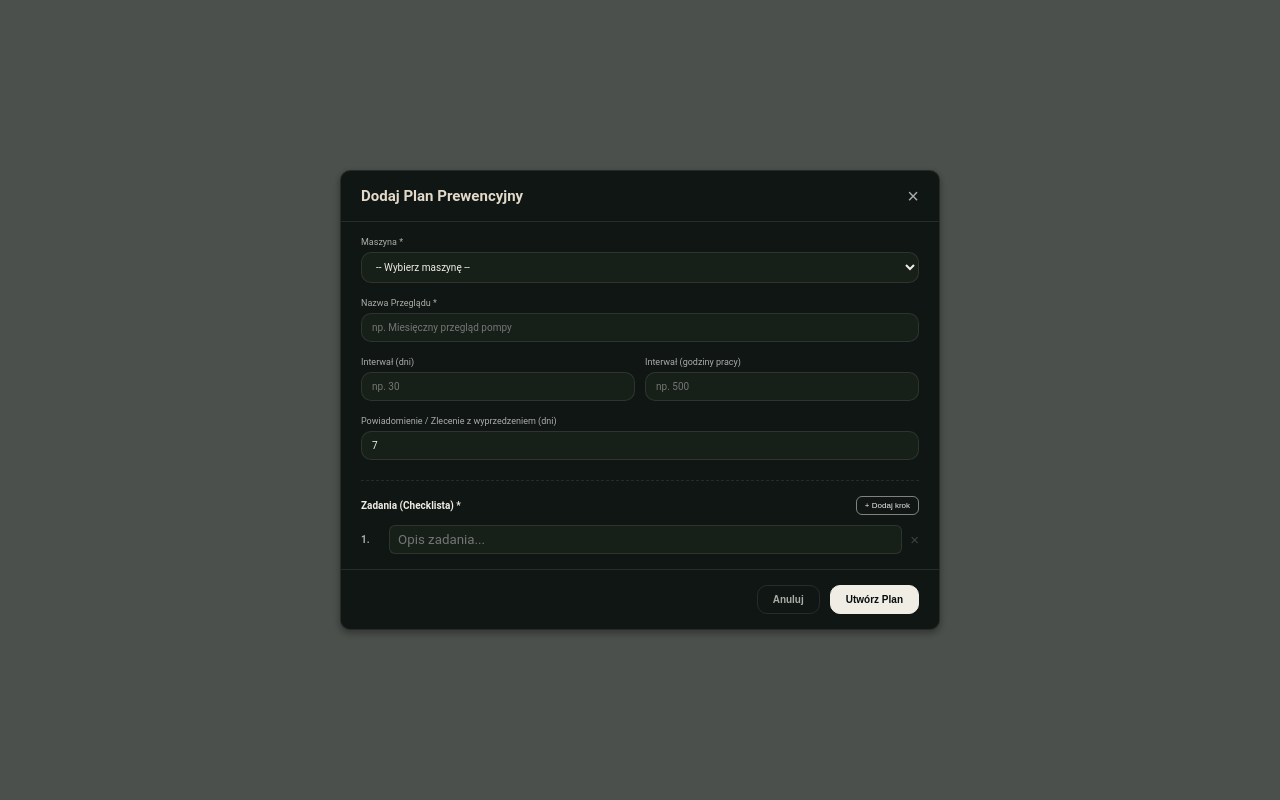
PreventiveModal › zarządzanie checklistą › kliknięcie "+ Dodaj krok" dodaje nowy krok
This screenshot has width=1280, height=800.
Click the button "+ Dodaj krok".
click(887, 506)  # box [856,496,919,515]
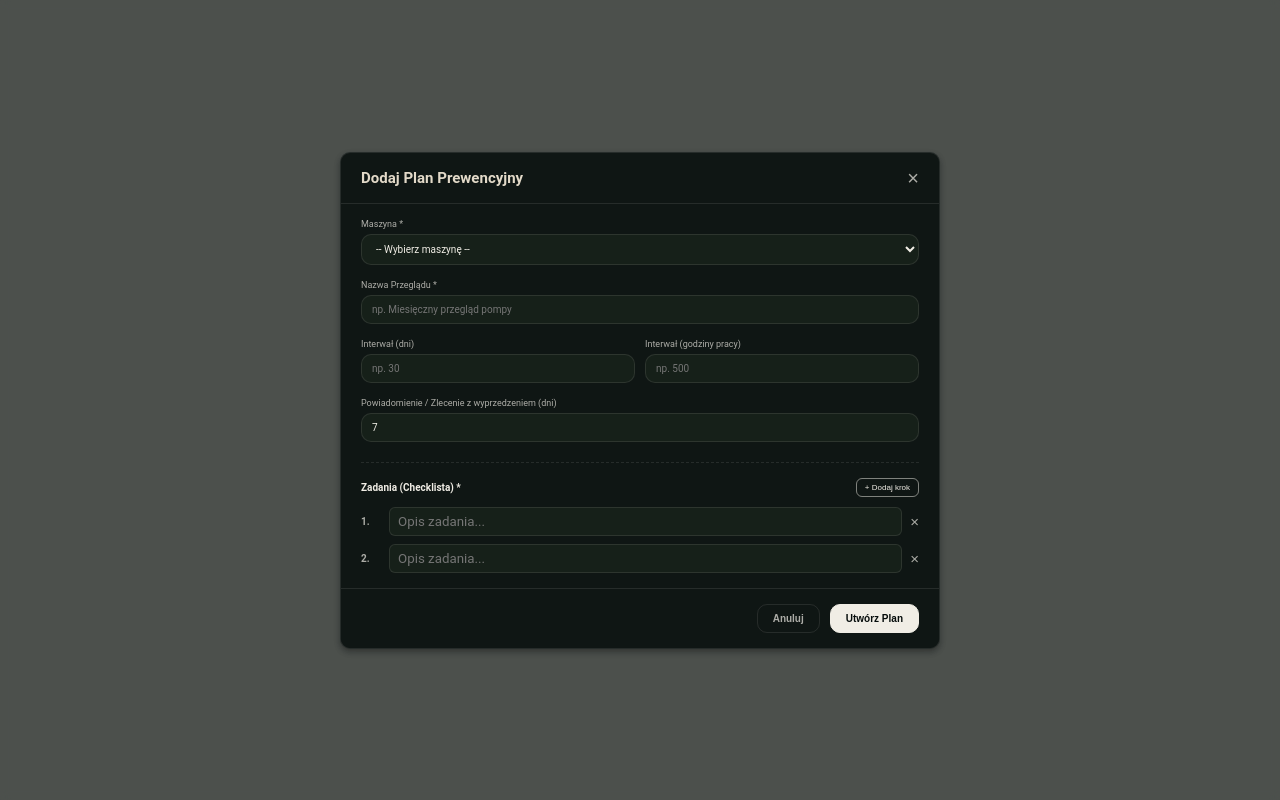
Check: the number of fields with placeholder "Opis zadania..." is 2, box [389,506,902,536]; [389,544,902,572]
